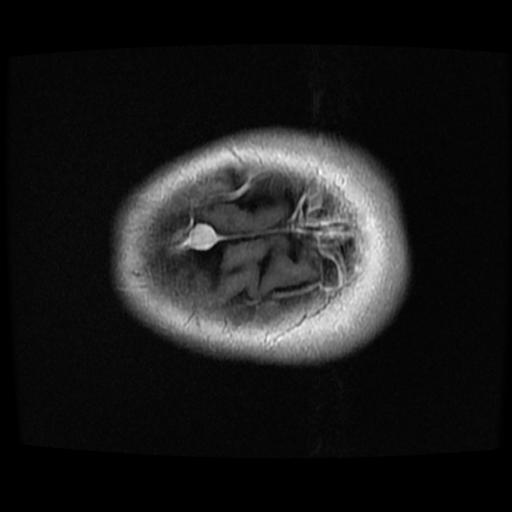meningioma: (177, 223, 216, 250)
